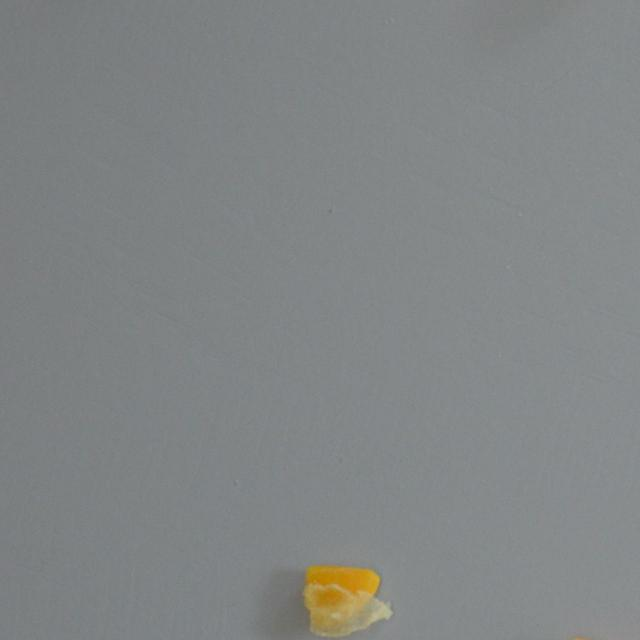pelicula: (297, 562, 394, 639)
